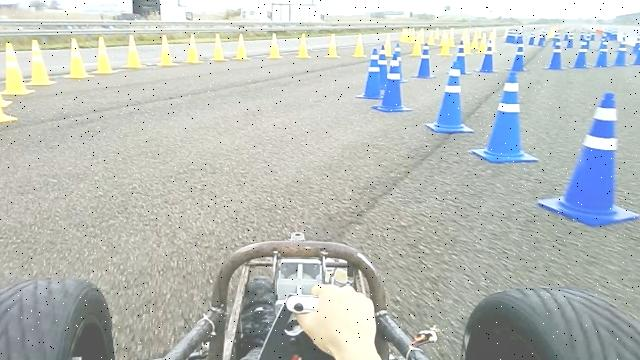blue cone: (538, 91, 640, 226), (470, 70, 539, 163), (426, 61, 475, 134), (371, 54, 413, 112), (356, 48, 382, 99)
yellow cone: (0, 42, 35, 96), (26, 39, 57, 86), (63, 37, 93, 79), (91, 36, 118, 74), (122, 34, 146, 69), (156, 34, 179, 66), (182, 33, 204, 64), (232, 33, 251, 61), (210, 33, 228, 61), (266, 32, 283, 59), (324, 33, 341, 58), (351, 32, 367, 58), (296, 32, 311, 58)
